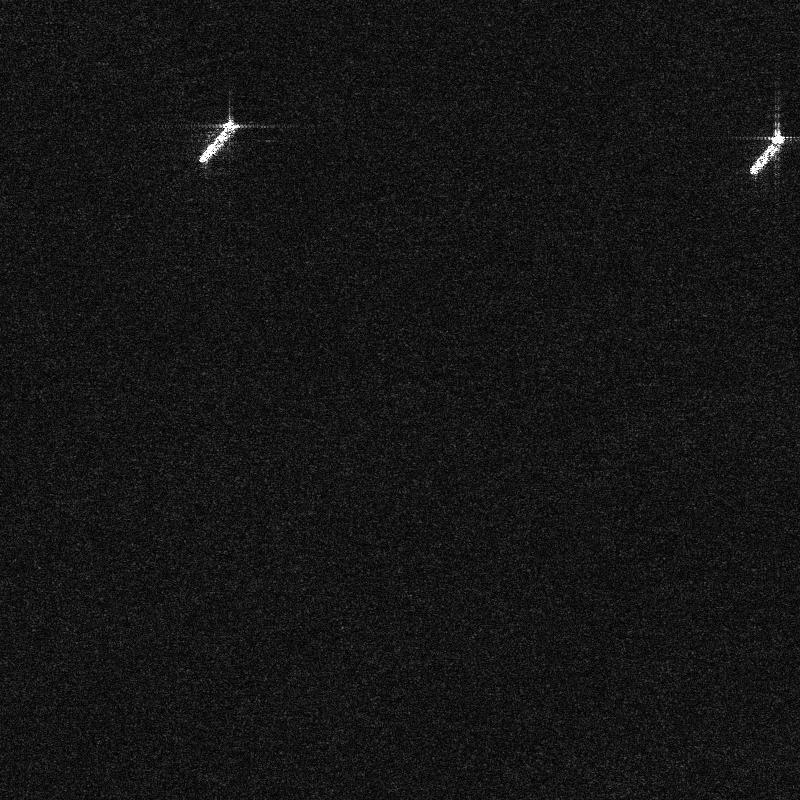ship: (198, 121, 239, 164), (749, 133, 786, 176)
